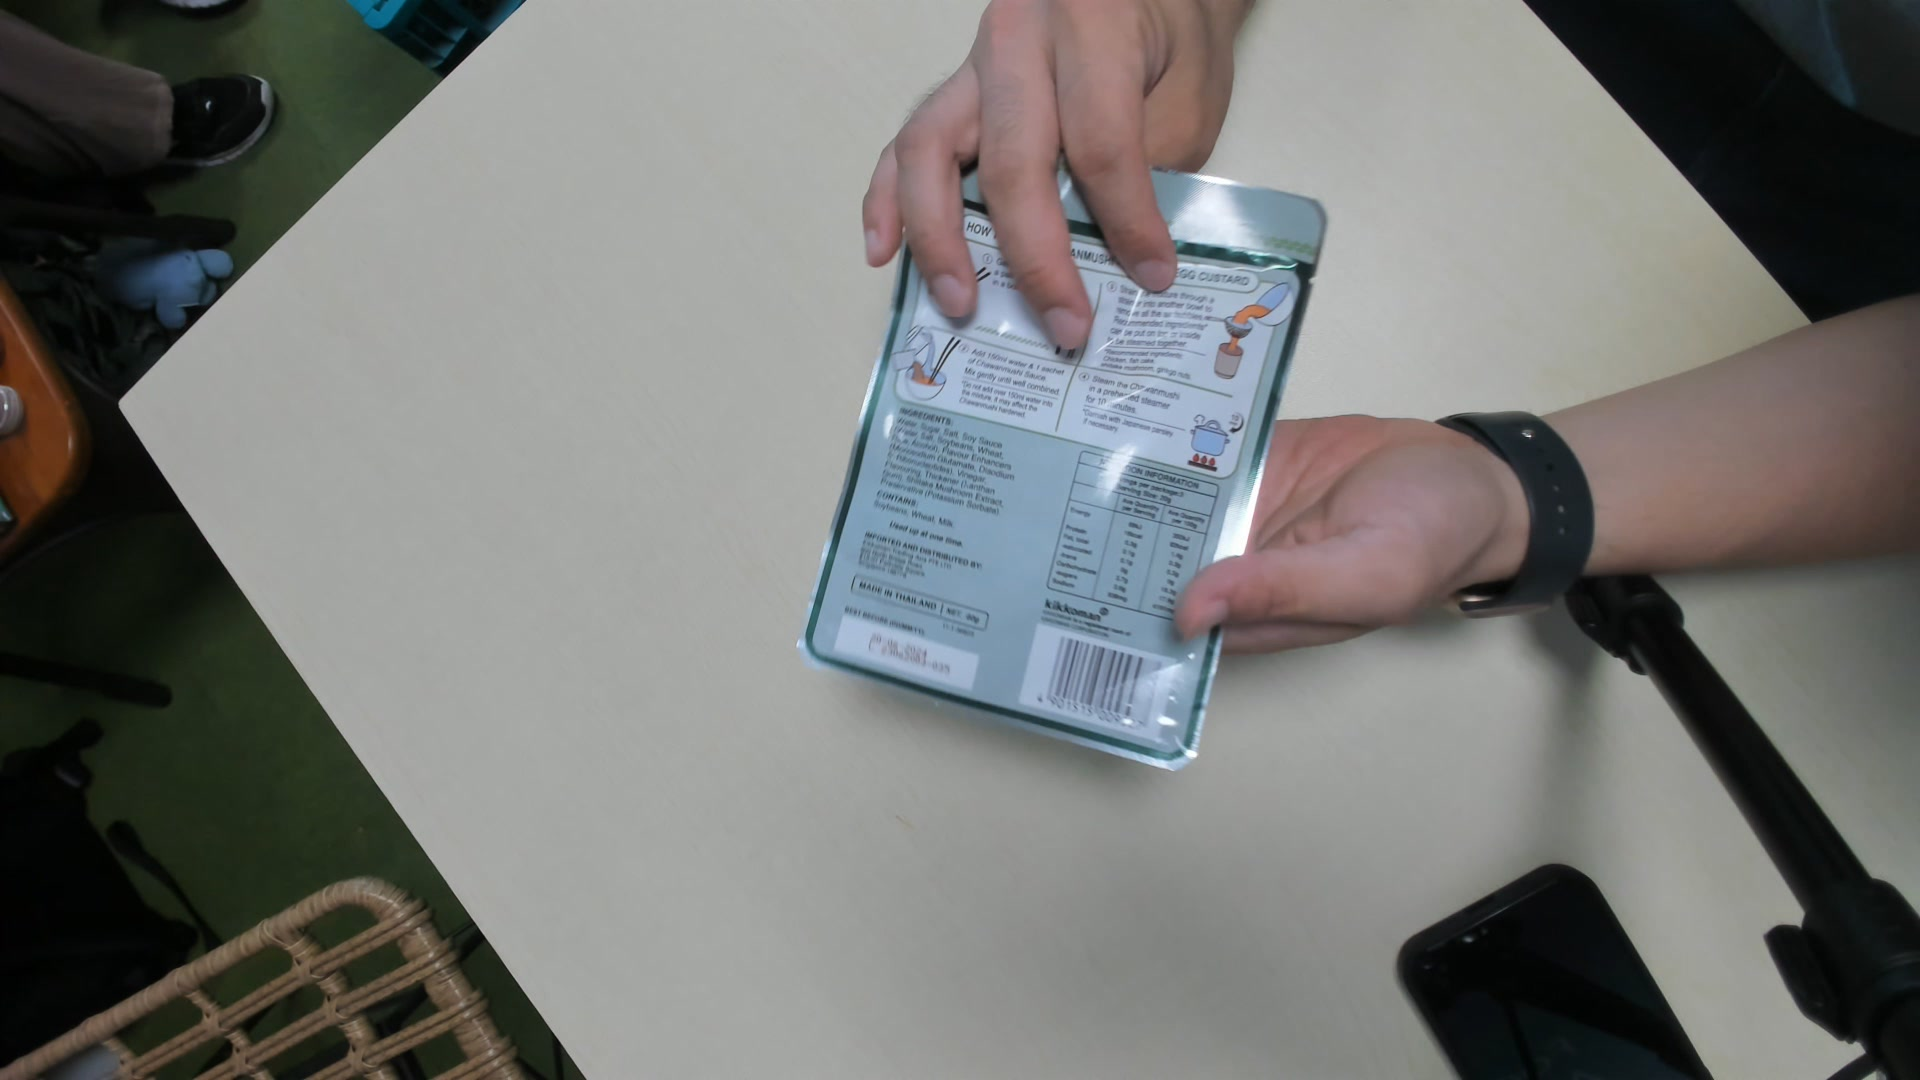OtherSauceDressing_0-99g_NonHalal_NonHealthy: (796, 156, 1321, 771)
